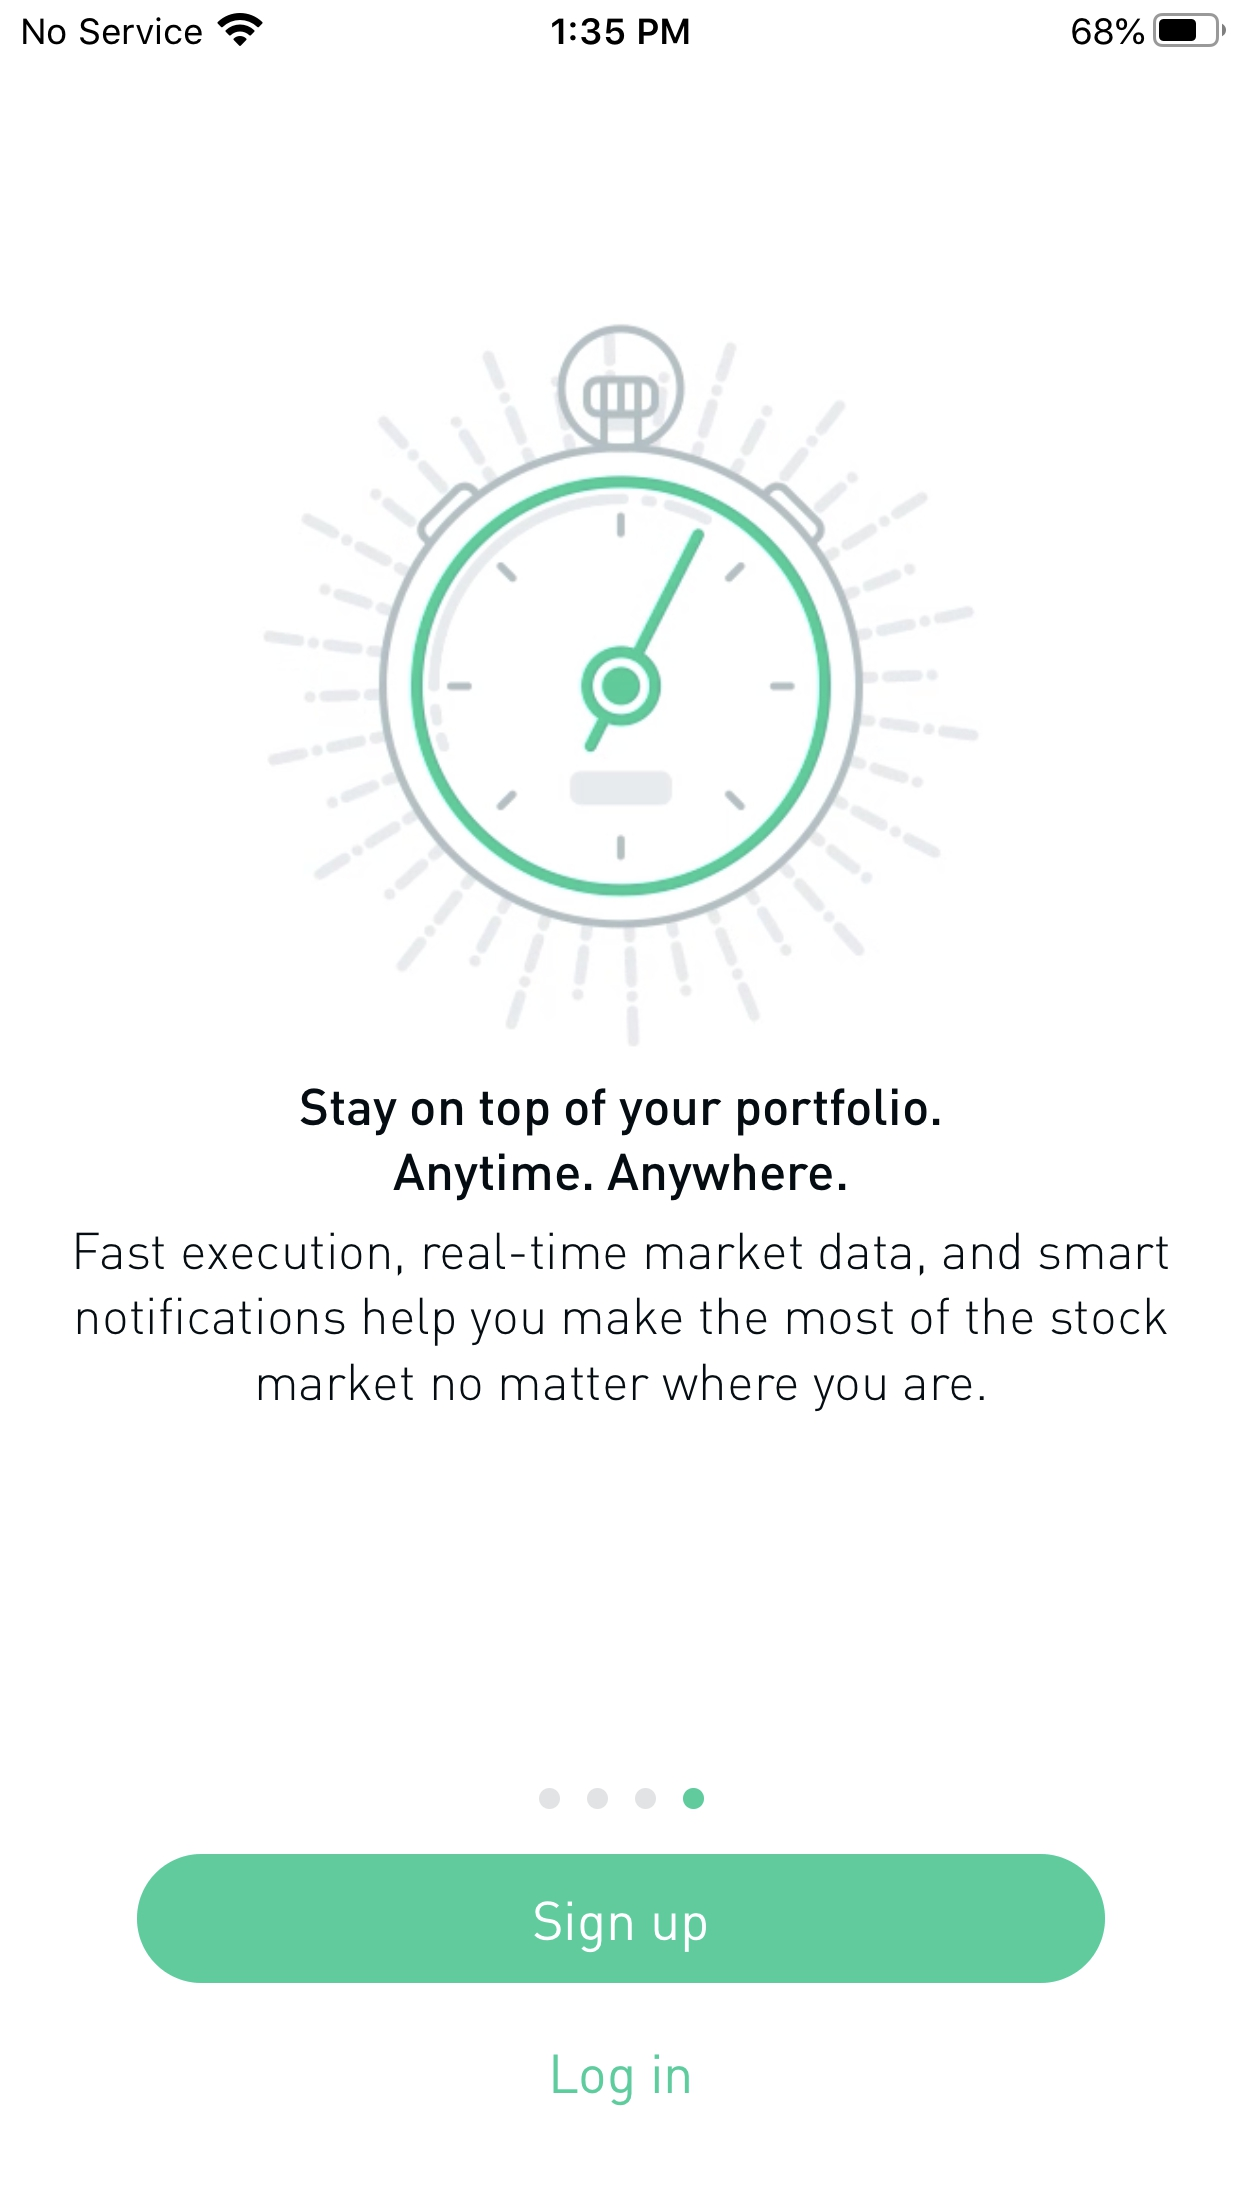Image: (264, 325, 980, 1046)
PageIndicator: (538, 1786, 704, 1809)
Text: (76, 1231, 1168, 1412), (300, 1087, 940, 1136), (393, 1153, 846, 1201), (554, 2053, 688, 2105)
TextButton: (136, 1853, 1106, 1984)
UpperTaskBar: (2, 2, 1242, 49)
